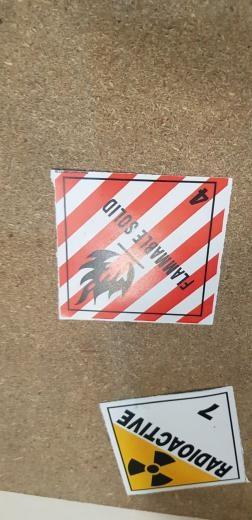flammable-solid: (67, 180, 215, 316)
radioactive: (108, 392, 242, 491)
